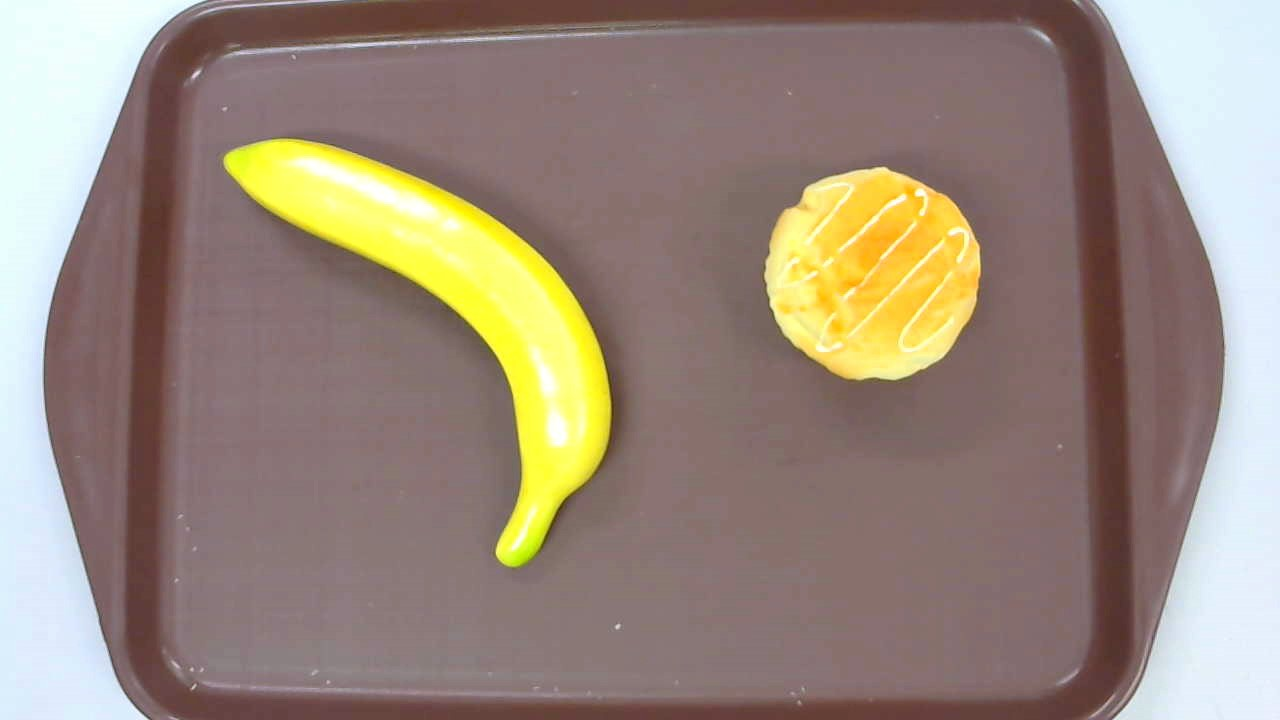banana: (223, 138, 611, 567)
cupcake: (764, 166, 983, 382)
